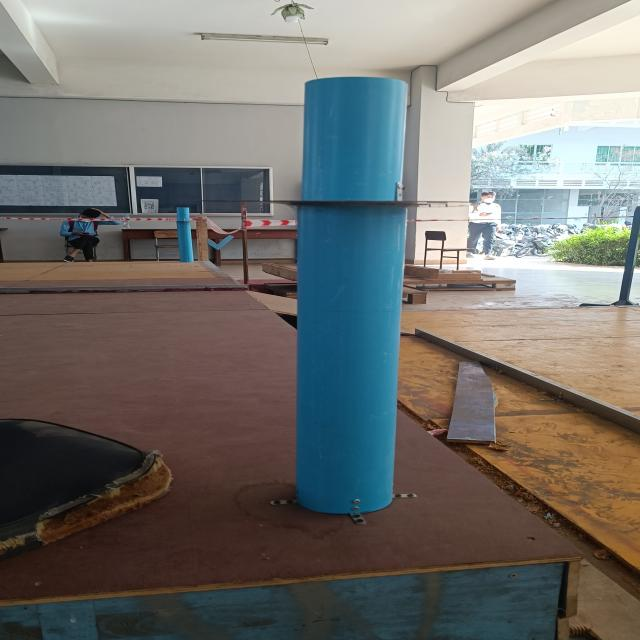pole: (178, 120, 550, 336)
